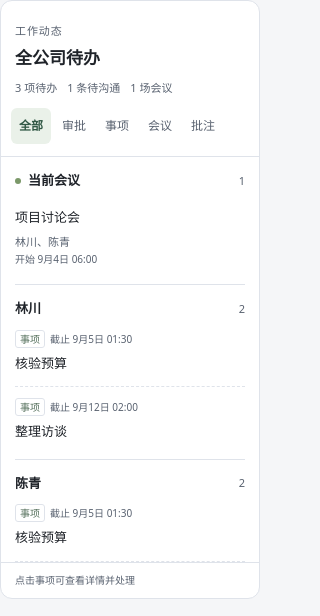
Scenario: office activity rail › shows meeting participants and pending communication with links back to their records
Click the button "会议".
click(160, 126)  # box top-left (140, 108), bottom-right (180, 144)
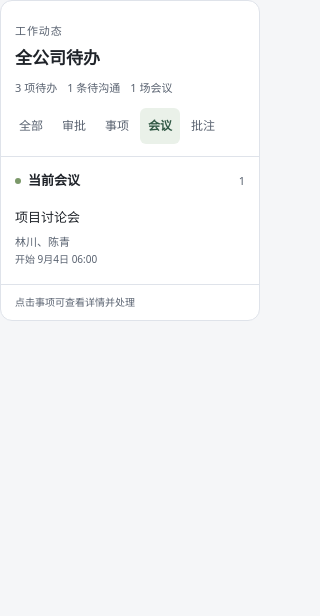
Expected: the heading "当前会议 1" is shown, top-left (15, 171), bottom-right (245, 191)
Expected: the text "林川、陈青" is shown, top-left (15, 234), bottom-right (70, 249)
Click the button "批注".
click(203, 126)  # box top-left (183, 108), bottom-right (223, 144)
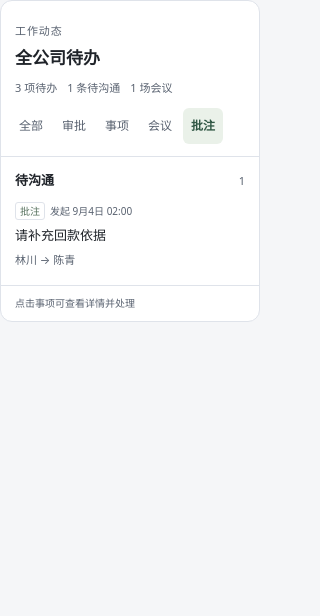
Expected: the heading "待沟通 1" is shown, top-left (15, 171), bottom-right (245, 191)
Expected: the text "林川 → 陈青" is shown, top-left (15, 252), bottom-right (75, 267)
Click the button "全部".
click(31, 126)  # box top-left (11, 108), bottom-right (51, 144)
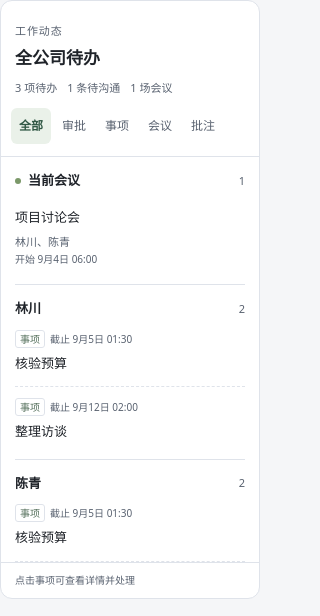
Expected: the link "项目讨论会" is shown, top-left (15, 208), bottom-right (80, 226)
